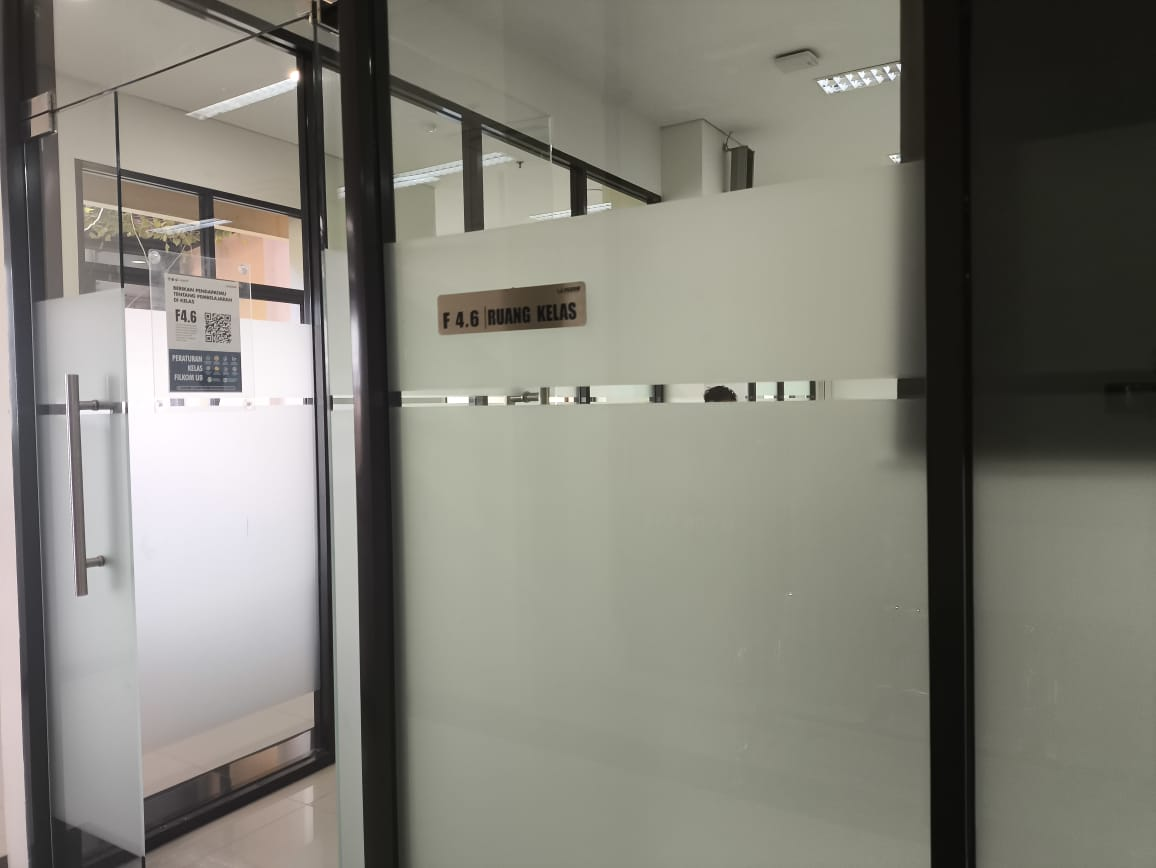ruangan: (431, 280, 595, 336)
